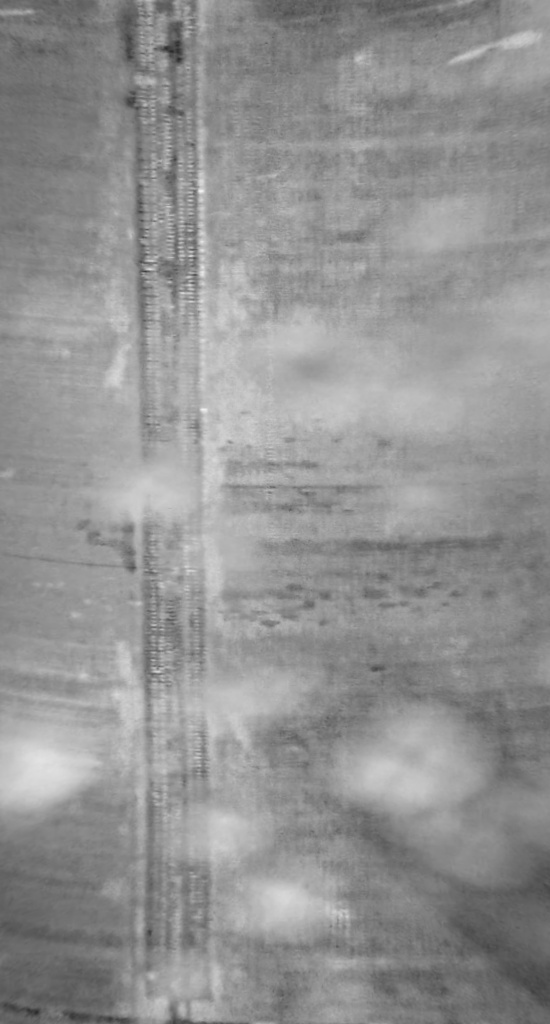splice: (125, 2, 212, 1024)
